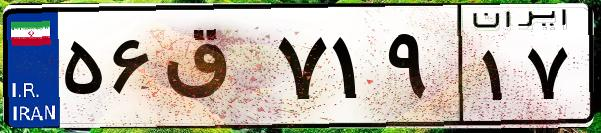1: (330, 28, 385, 110), (475, 38, 525, 113)
5: (57, 26, 110, 100)
6: (110, 28, 158, 98)
7: (270, 28, 330, 110), (525, 38, 570, 115)
9: (385, 28, 445, 110)
ق: (158, 20, 270, 120)
